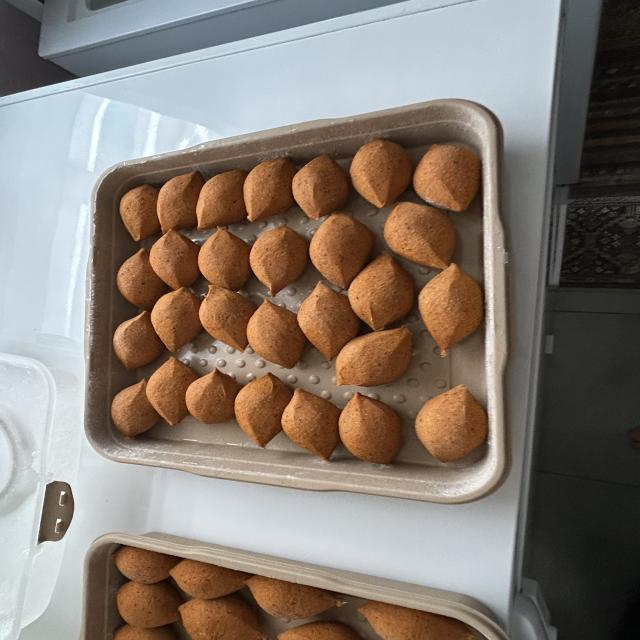kobi: (415, 387, 493, 463), (421, 268, 484, 362), (309, 204, 376, 292), (333, 323, 415, 387), (384, 201, 457, 270), (355, 603, 488, 640), (330, 396, 402, 464), (412, 139, 479, 211), (296, 278, 356, 358), (244, 575, 352, 619), (236, 371, 297, 447), (349, 256, 411, 330), (282, 389, 348, 458), (113, 578, 195, 630), (352, 138, 406, 210), (249, 302, 307, 368), (146, 356, 204, 422), (180, 594, 262, 640), (252, 228, 306, 297), (169, 556, 249, 601), (184, 367, 251, 420), (197, 167, 246, 236), (146, 289, 197, 355), (292, 155, 345, 218), (196, 290, 253, 348), (94, 542, 173, 583), (245, 155, 289, 224), (199, 227, 244, 289), (119, 184, 165, 243), (155, 171, 199, 232), (113, 308, 159, 366), (148, 232, 195, 288), (116, 376, 152, 443), (116, 252, 156, 306), (279, 617, 364, 640)
